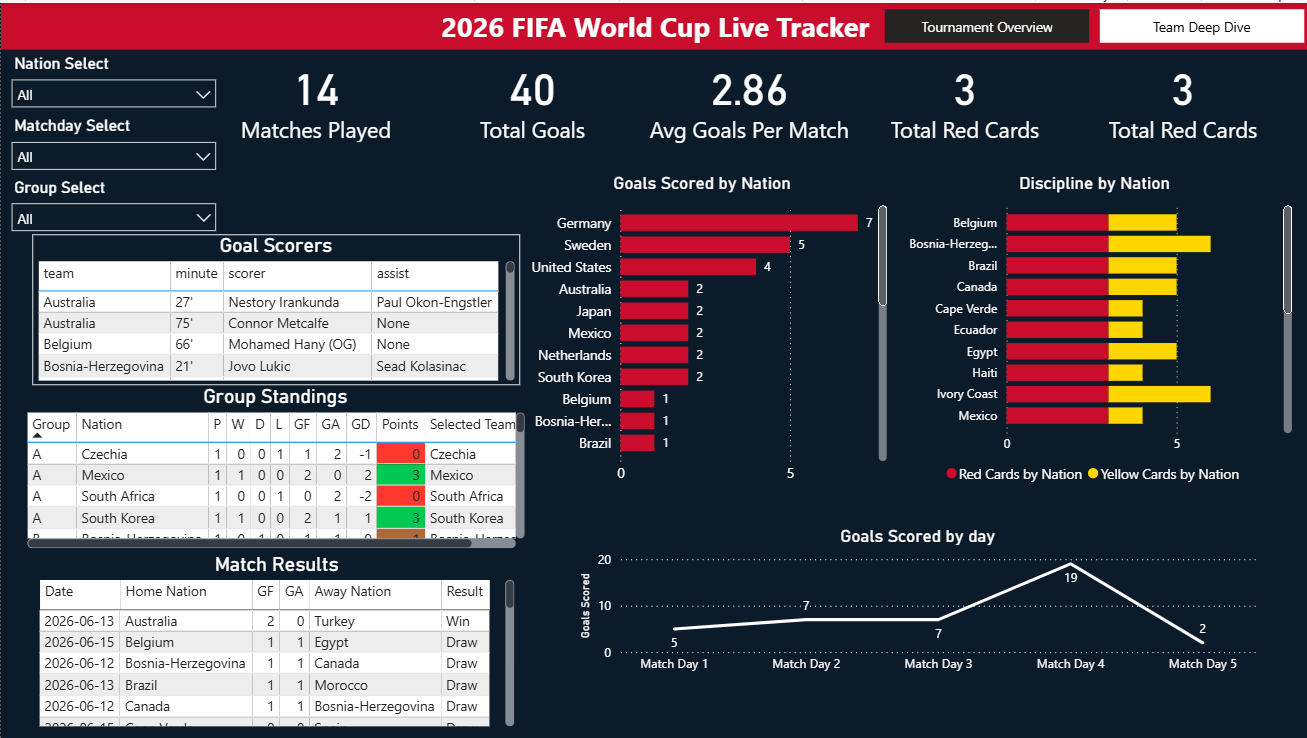

The page's visual inventory and layout, read from the dashboard file:
{"tool":"powerbi","page":{"name":"Tournament Overview","canvas":[1280,720],"ordinal":0},"visuals":[{"type":"textbox","box":[0,0,1280.3,45.3],"z":0},{"type":"PBI_CV_7B952816_A48F_49B4_9E13_15E3BB2C0337","fields":{"Values":["_measures.Total Goals"]},"box":[409.5,55.6,221.2,86],"z":0,"group":"g1"},{"type":"PBI_CV_7B952816_A48F_49B4_9E13_15E3BB2C0337","fields":{"Values":["_measures.Avg Goals Per Match"]},"box":[622.7,51.5,217.7,94.2],"z":1000,"group":"g1"},{"type":"tableEx","title":"Match Results","fields":{"Values":["wc2026_team_matches.date","wc2026_team_matches.team","wc2026_team_matches.goals_scored","wc2026_team_matches.goals_conceded","wc2026_team_matches.opponent","wc2026_team_matches.result_type"]},"box":[31.8,538,475.7,174.9],"z":1000},{"type":"PBI_CV_7B952816_A48F_49B4_9E13_15E3BB2C0337","fields":{"Values":["_measures.Total Matches Played"]},"box":[198.8,55.6,218.7,86],"z":2000,"group":"g1"},{"type":"tableEx","title":"Goal Scorers","fields":{"Values":["wc2026_goals_detail.team","wc2026_goals_detail.minute","wc2026_goals_detail.scorer","wc2026_goals_detail.assist"]},"box":[30.6,226.2,476.9,148],"z":2000},{"type":"PBI_CV_7B952816_A48F_49B4_9E13_15E3BB2C0337","fields":{"Values":["_measures.Total Red Cards"]},"box":[1045.6,55.3,222.2,86.6],"z":3000,"group":"g1"},{"type":"clusteredBarChart","title":"Goals Scored by Nation","fields":{"Category":["wc2026_goals_summary.team"],"Y":["Sum(wc2026_goals_summary.goals_scored)"]},"box":[500.1,166.3,371.7,313],"z":3000},{"type":"PBI_CV_7B952816_A48F_49B4_9E13_15E3BB2C0337","fields":{"Values":["_measures.Total Red Cards"]},"box":[832.4,55.6,221.2,86],"z":4000,"group":"g1"},{"type":"barChart","title":"Discipline by Nation","fields":{"Y":["_measures.Red Cards by Team","_measures.Yellow Cards by Team"],"Category":["wc2026_discipline.team"]},"box":[871.9,166.3,396.2,313],"z":4000},{"type":"pageNavigator","box":[864.5,6.1,410.9,33],"z":5000},{"type":"lineChart","title":"Goals Scored by day","fields":{"Category":["wc2026_match_day_goals.match_day_label"],"Y":["Sum(wc2026_match_day_goals.total_goals)"]},"box":[561.3,511.1,671.3,154.1],"z":6000},{"type":"group","id":"g1","title":"Group 1","box":[198.8,51.5,1069,93.6],"z":7000},{"type":"slicer","title":"Nation Select","fields":{"Values":["wc2026_teams.team"]},"box":[0,45.2,220.1,67.3],"z":8000,"group":"g2"},{"type":"slicer","title":"Nation Select","fields":{"Values":["wc2026_match_day_goals.match_day"]},"box":[0,106.3,220.1,79.5],"z":8001,"group":"g2"},{"type":"slicer","title":"Nation Select","fields":{"Values":["wc2026_standings.group"]},"box":[0,166,220.6,79.8],"z":8001},{"type":"group","id":"g2","title":"Group 2","box":[0,45.2,220.1,140.6],"z":8002},{"type":"tableEx","title":"Group Standings","fields":{"Values":["wc2026_standings.group","wc2026_standings.team","Sum(wc2026_standings.played)","Sum(wc2026_standings.wins)","Sum(wc2026_standings.draws)","Sum(wc2026_standings.losses)","Sum(wc2026_standings.goals_for)","Sum(wc2026_standings.goals_against)","Sum(wc2026_standings.goal_diff)","Sum(wc2026_standings.points)","_measures.Selected Team Group"]},"box":[19.6,374.2,497.7,163.9],"z":8003}]}

Visuals, with their boxes in screenshot pixels (x1, y1, x2, y2), scaled from the page's 1280x720 canvas onto the 1307x738 screenshot:
textbox: 0,0,1306,46
PBI_CV_7B952816_A48F_49B4_9E13_15E3BB2C0337 - _measures.Total Goals: 418,57,644,145
PBI_CV_7B952816_A48F_49B4_9E13_15E3BB2C0337 - _measures.Avg Goals Per Match: 636,53,858,149
"Match Results" tableEx: 32,551,518,731
PBI_CV_7B952816_A48F_49B4_9E13_15E3BB2C0337 - _measures.Total Matches Played: 203,57,426,145
"Goal Scorers" tableEx: 31,232,518,384
PBI_CV_7B952816_A48F_49B4_9E13_15E3BB2C0337 - _measures.Total Red Cards: 1068,57,1295,145
"Goals Scored by Nation" clusteredBarChart: 511,170,890,491
PBI_CV_7B952816_A48F_49B4_9E13_15E3BB2C0337 - _measures.Total Red Cards: 850,57,1076,145
"Discipline by Nation" barChart: 890,170,1295,491
pageNavigator: 883,6,1302,40
"Goals Scored by day" lineChart: 573,524,1259,682
"Group 1" group: 203,53,1295,149
"Nation Select" slicer: 0,46,225,115
"Nation Select" slicer: 0,109,225,190
"Nation Select" slicer: 0,170,225,252
"Group 2" group: 0,46,225,190
"Group Standings" tableEx: 20,384,528,552
